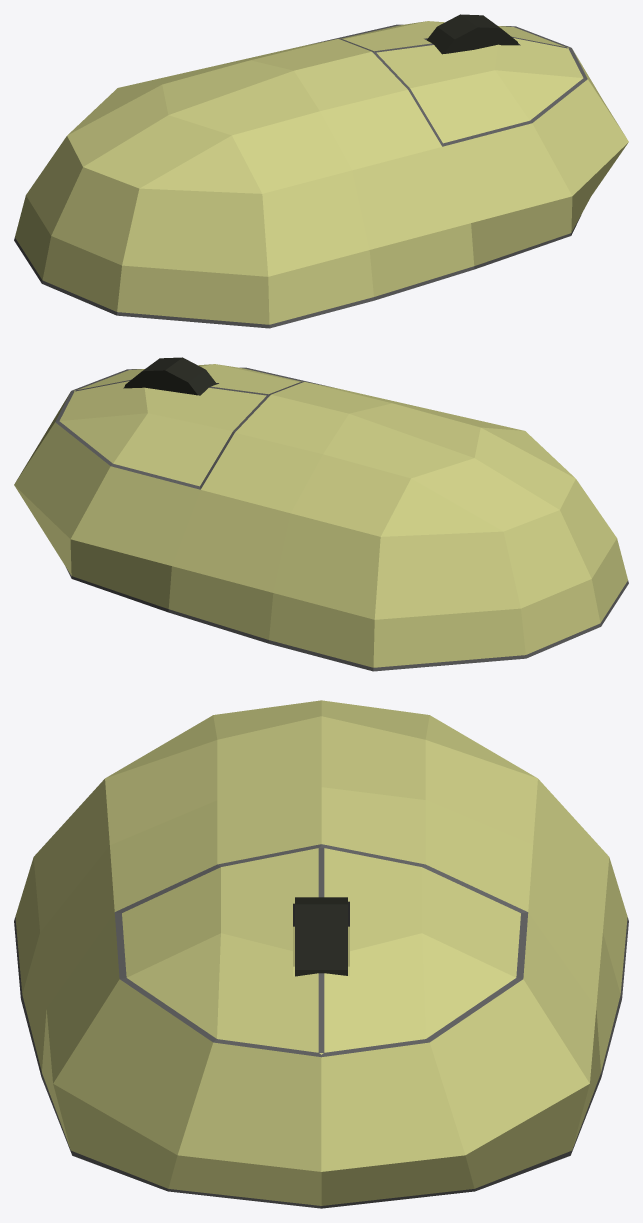
The model's file is MouseJ.fbx.
3 renders of one model, top to bottom at view 1: azimuth 30°, elevation 25°; view 2: azimuth 150°, elevation 25°; view 3: azimuth 270°, elevation 25°, orthographic. The views are drawn at different scales.
Parts seen in each view (by area): view 1: Plane; view 2: Plane; view 3: Plane.
Boxes of the visible parts, bbox=[...] form: Plane: bbox=[14, 14, 628, 328]; Plane: bbox=[14, 357, 628, 671]; Plane: bbox=[14, 700, 628, 1208].
Bounding box in the file's own units: 350 × 222 × 94.37.
